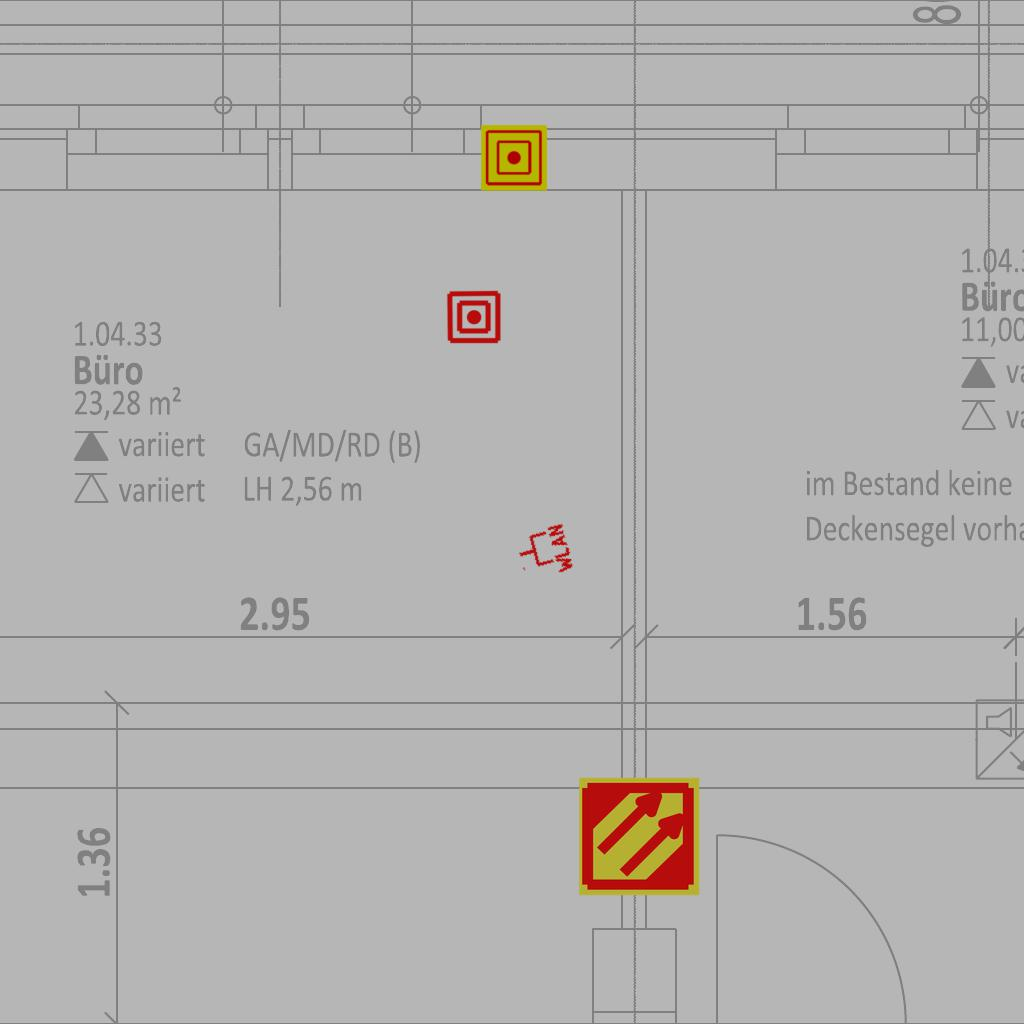ASR_Ansaugrauchmelder: (577, 774, 702, 899)
NAM-Nichtautomatischer_Melder: (481, 125, 547, 191), (446, 289, 502, 345)
WLAN: (512, 521, 576, 585)
